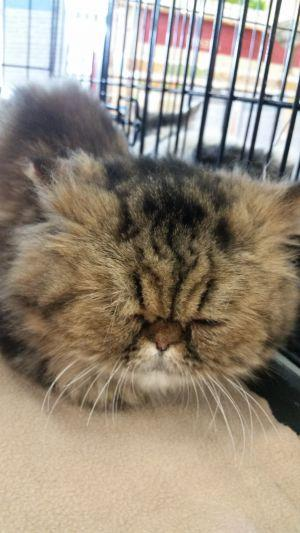persian: (16, 138, 300, 402)
